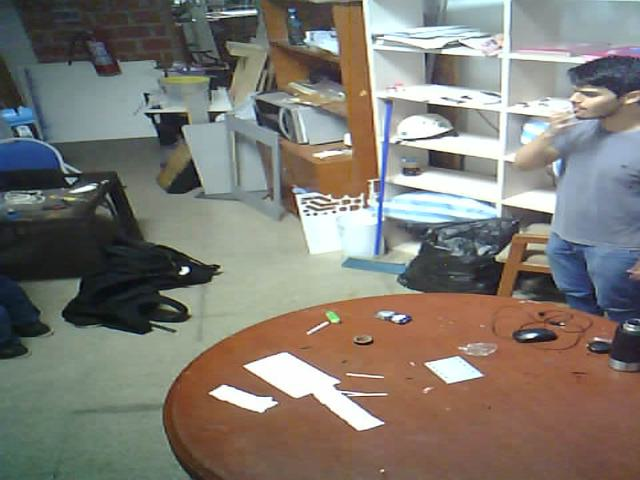person: (499, 33, 640, 371)
